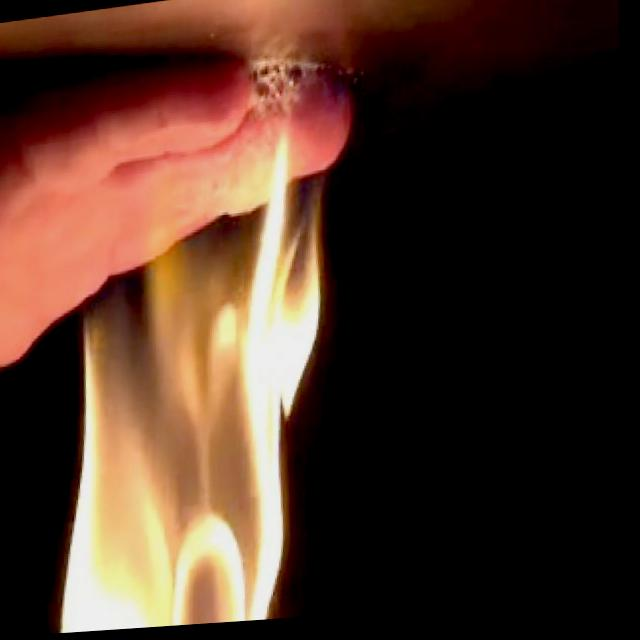helmet: (20, 133, 362, 637)
